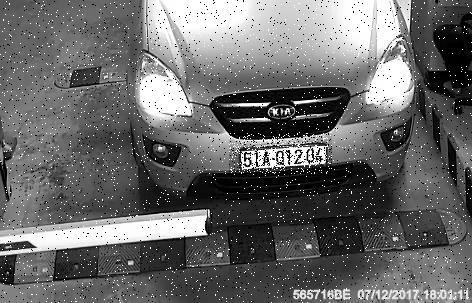License-plate: (230, 133, 333, 175)
